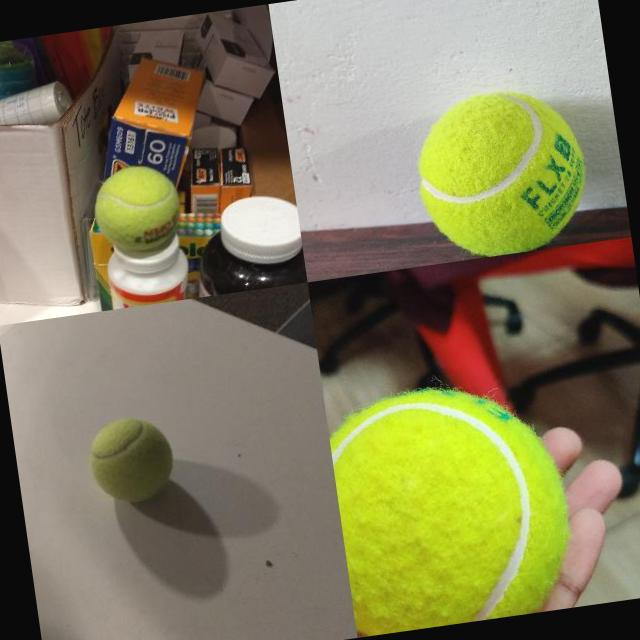Tennis Ball: (325, 374, 580, 637), (407, 80, 596, 264), (89, 158, 187, 255), (82, 412, 179, 509)
